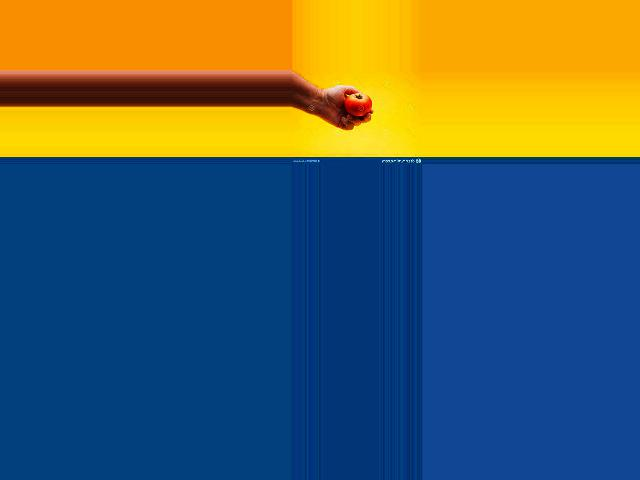tomato: (344, 93, 371, 116)
